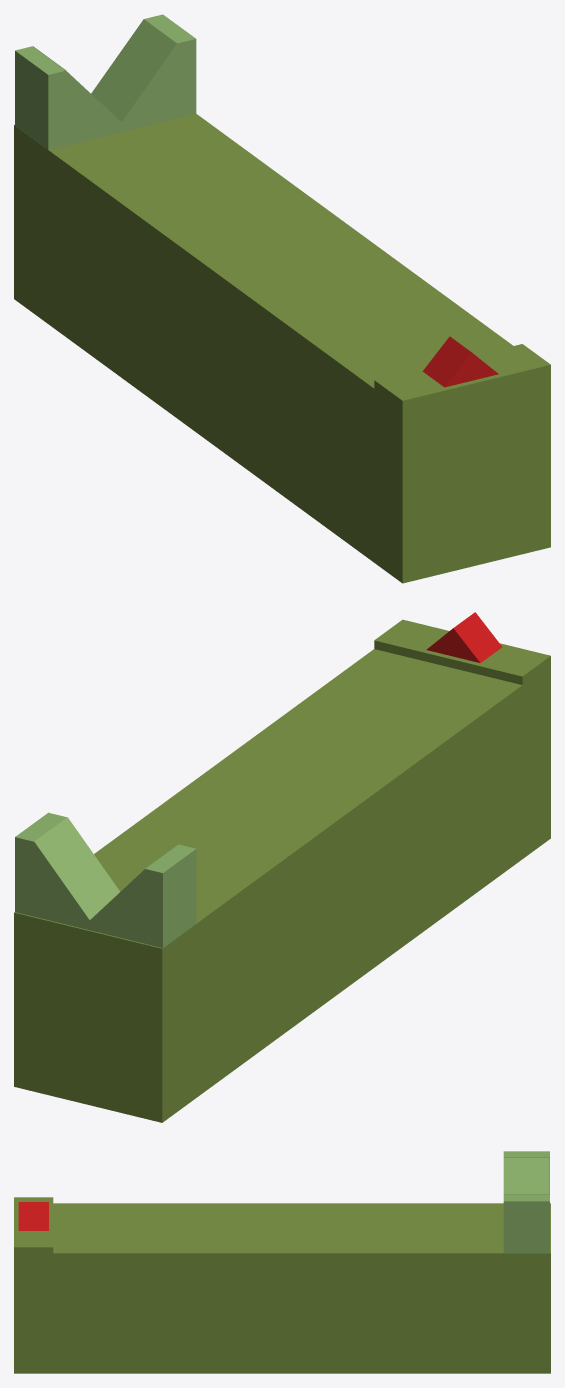
The model's file is mushka.fbx.
3 views of the same model, one above another, from view 1: azimuth 30°, elevation 25°; view 2: azimuth 150°, elevation 25°; view 3: azimuth 270°, elevation 25° (orthographic). The views are drawn at different scales.
Parts seen in each view (by area): view 1: Объект_Куб, Объект_Куб_7, Объект_Куб_5, Объект_Куб_6; view 2: Объект_Куб, Объект_Куб_7, Объект_Куб_5, Объект_Куб_6; view 3: Объект_Куб, Объект_Куб_7, Объект_Куб_5, Объект_Куб_6.
Boxes of the visible parts, x1,y1,x2,y2 form: Объект_Куб: (14, 114, 550, 583); Объект_Куб_7: (15, 14, 196, 149); Объект_Куб_5: (374, 344, 550, 411); Объект_Куб_6: (422, 336, 498, 387); Объект_Куб: (14, 649, 550, 1122); Объект_Куб_7: (15, 812, 196, 947); Объект_Куб_5: (374, 619, 550, 687); Объект_Куб_6: (426, 612, 502, 662); Объект_Куб: (14, 1203, 550, 1373); Объект_Куб_7: (503, 1151, 549, 1252); Объект_Куб_5: (14, 1197, 53, 1254); Объект_Куб_6: (18, 1202, 48, 1230).
Bounding box in the file's own units: 27.07 × 43.49 × 123.
